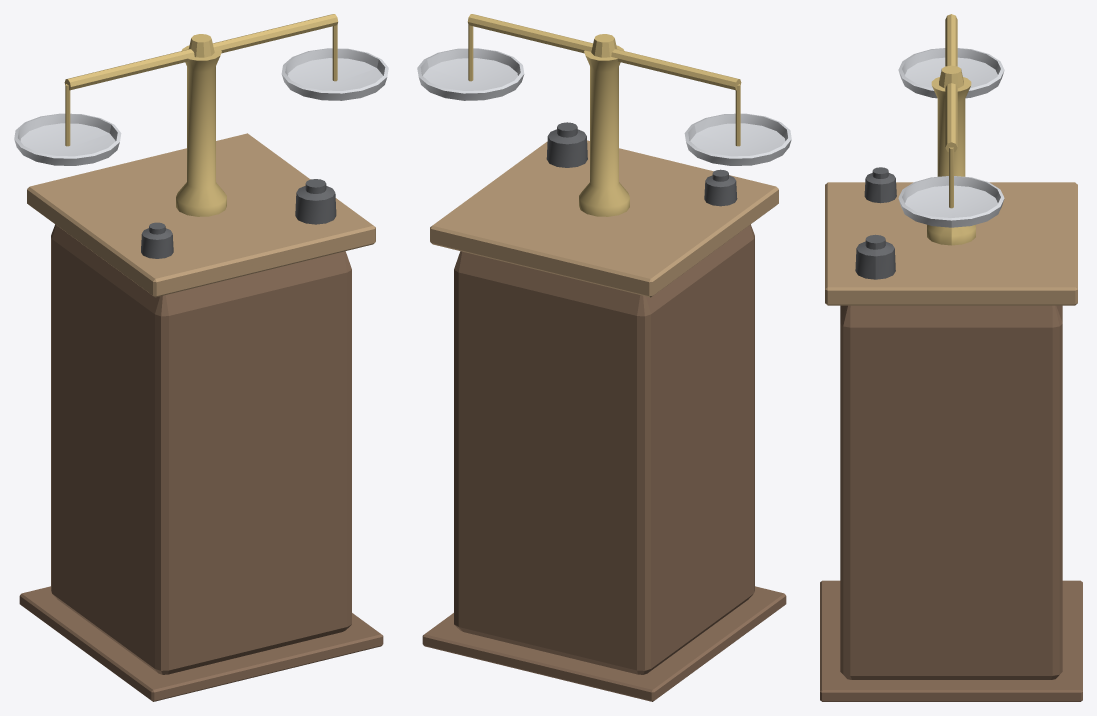
The model's file is escape-room-and-puzzle-venue-weighing-scale-puzzle-pli-af5b57ba__35790.glb.
3 views of the same model, side by side, from view 1: azimuth 30°, elevation 25°; view 2: azimuth 150°, elevation 25°; view 3: azimuth 270°, elevation 25° (orthographic).
Visible parts, largest first — view 1: weighing-scale-puzzle-plinth, beam/metal, beam/brass; view 2: weighing-scale-puzzle-plinth, beam/metal, beam/brass; view 3: weighing-scale-puzzle-plinth, beam/metal, beam/brass.
Part boxes in pixels (x1,y1,x2,y2): weighing-scale-puzzle-plinth: (19,45,383,701); beam/metal: (14,48,388,165); beam/brass: (64,14,338,146); weighing-scale-puzzle-plinth: (422,45,786,701); beam/metal: (417,48,791,165); beam/brass: (467,14,741,146); weighing-scale-puzzle-plinth: (820,77,1082,701); beam/metal: (898,48,1004,227); beam/brass: (939,14,963,208).
Bounding box in the file's own units: 0.81 × 1.26 × 0.52.
